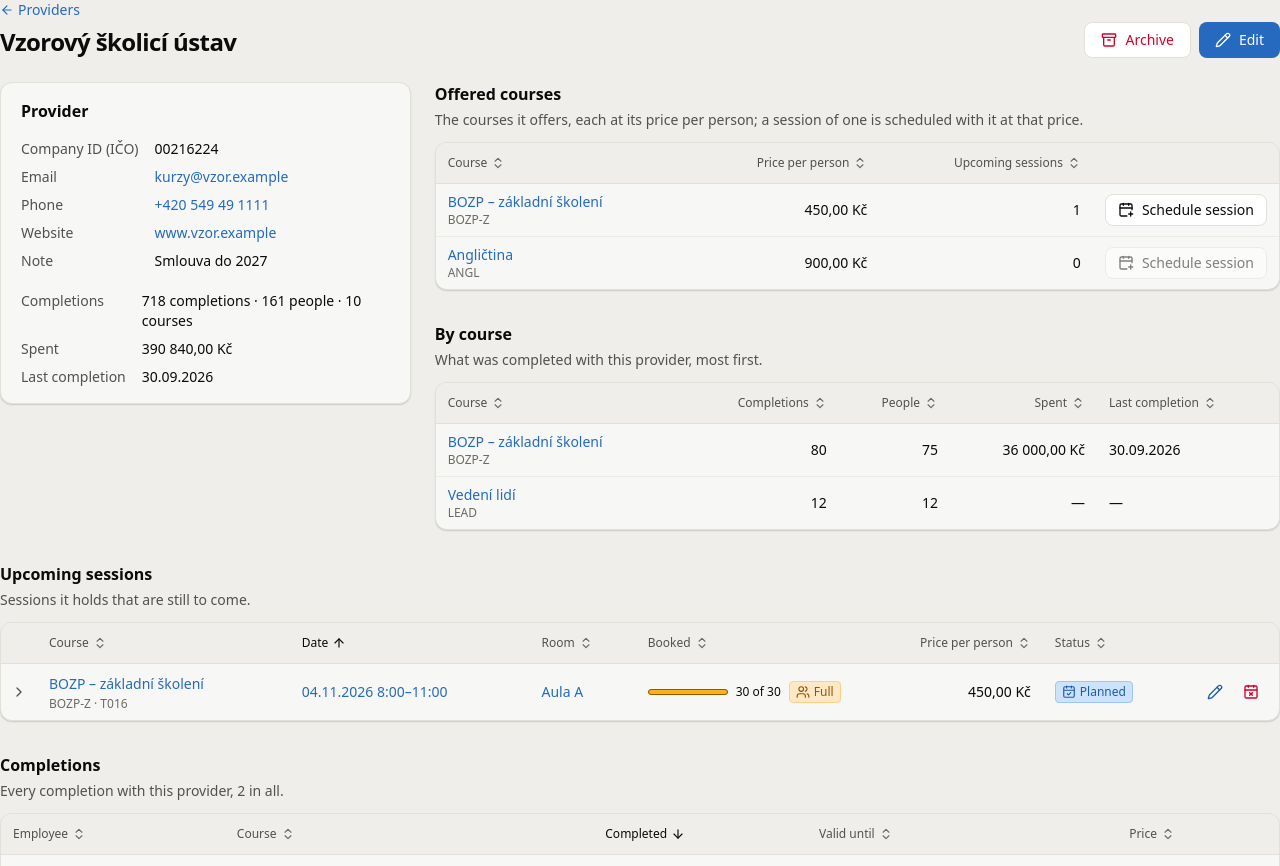
Test case: archiving a provider › archives from the provider page and says when it is gone already
Click the button "Archive".
click(1138, 40)  # box [1084, 22, 1191, 58]
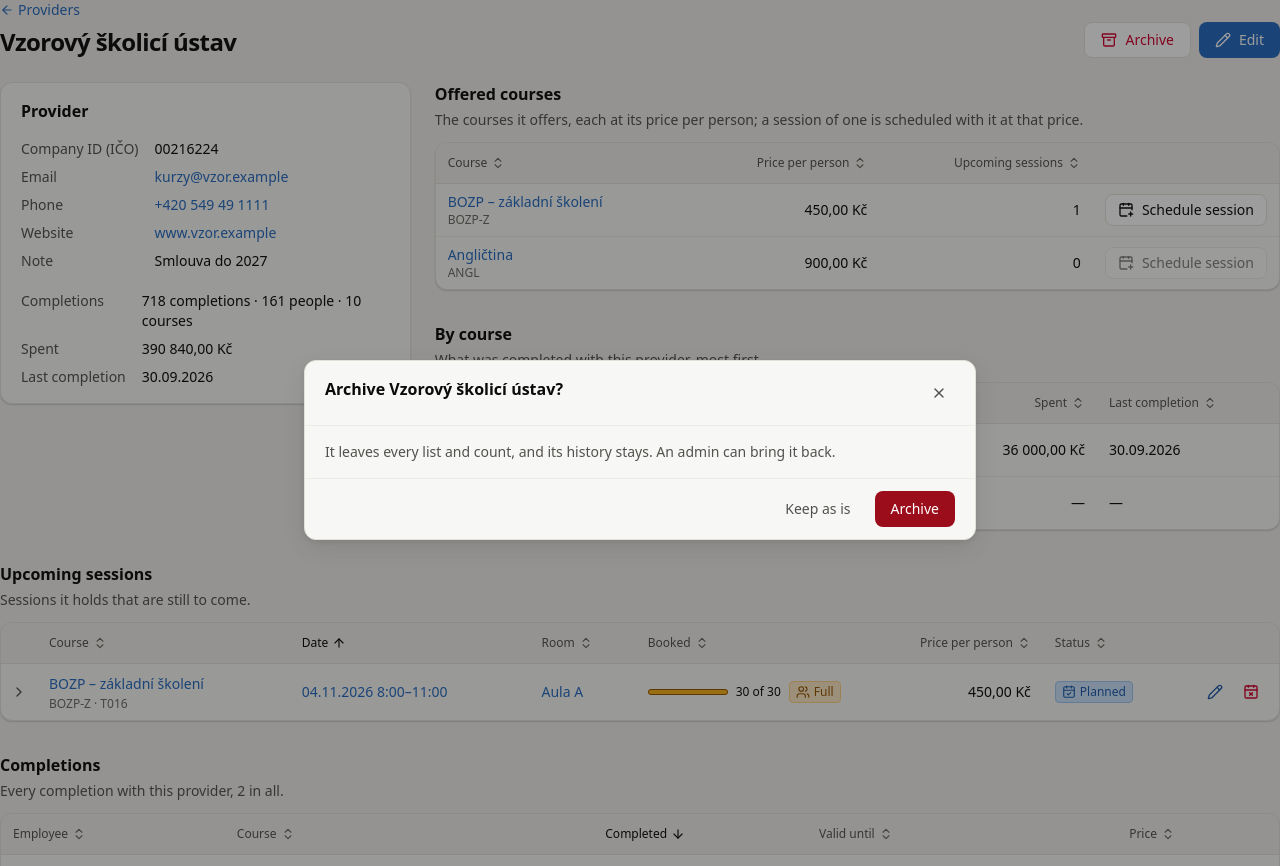
Result: the button "Archive" is enabled
Click the button "Archive".
click(915, 509)  # box [874, 491, 955, 527]
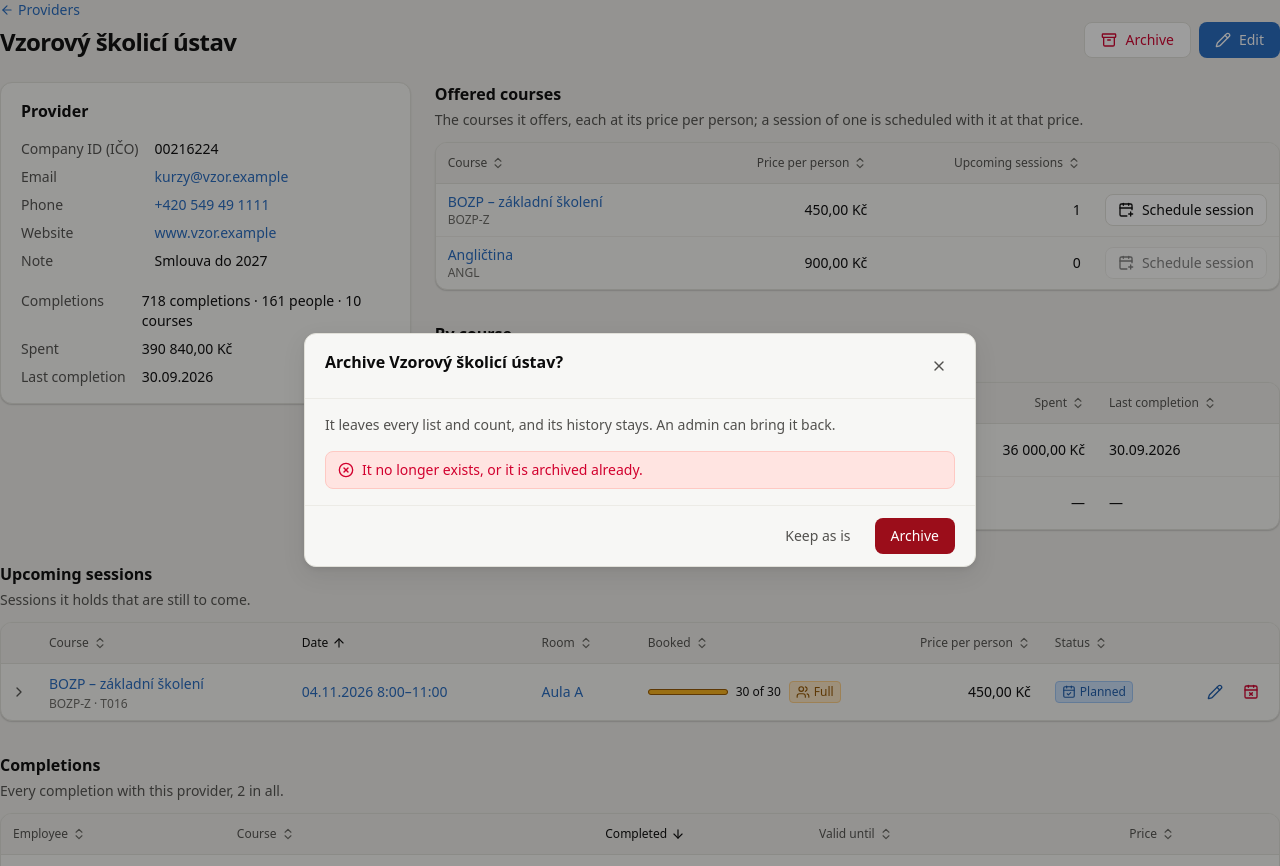
Result: the text "It no longer exists, or it is archived already." is shown at [362, 460, 643, 480]
